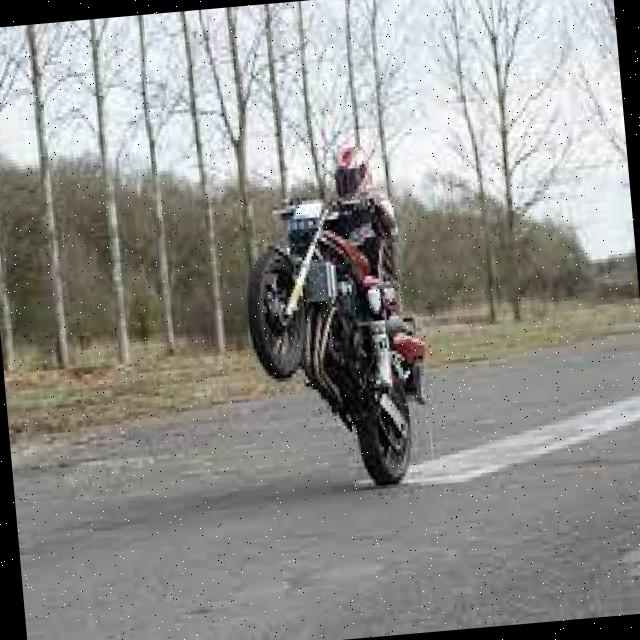Wheeling: (230, 138, 442, 503)
